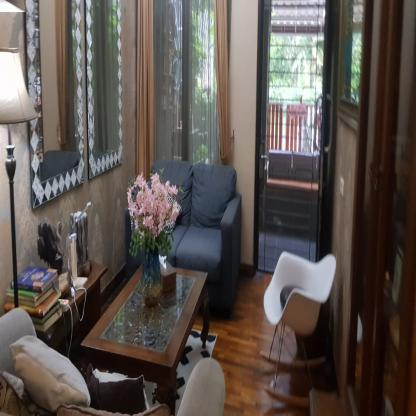buku: (18, 266, 64, 327)
lampu: (2, 44, 31, 307)
meja: (85, 273, 214, 388)
sova: (131, 158, 242, 307), (265, 245, 332, 406)
tanaman: (131, 180, 169, 300)
